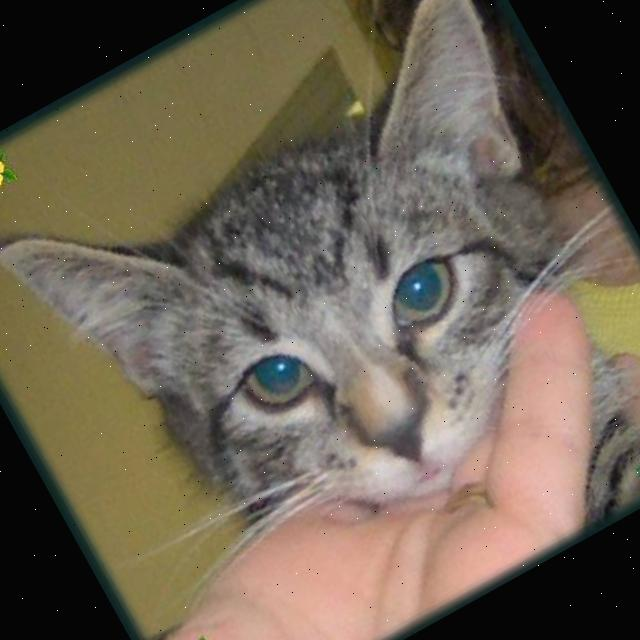cat-eye-normal: (356, 232, 486, 354), (220, 323, 336, 434)
